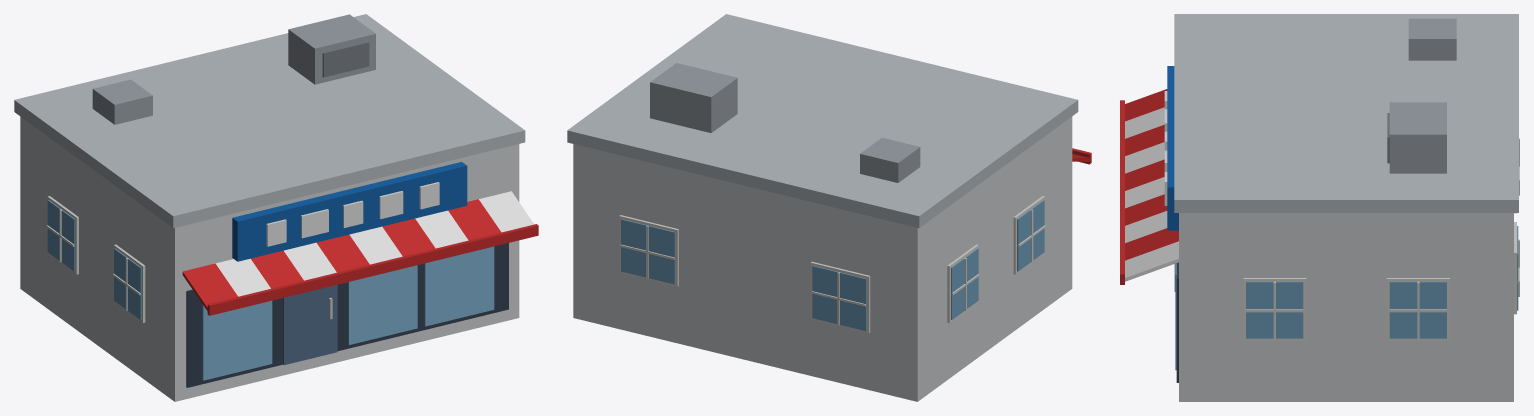
File: shop.glb
3 views of the same model, side by side, from view 1: azimuth 30°, elevation 25°; view 2: azimuth 150°, elevation 25°; view 3: azimuth 270°, elevation 25° (orthographic). The views are drawn at different scales.
Parts seen in each view (by area): view 1: gh_shop; view 2: gh_shop; view 3: gh_shop.
Boxes of the visible parts, x1=… form: gh_shop: x1=14, y1=14, x2=538, y2=401; gh_shop: x1=567, y1=14, x2=1091, y2=401; gh_shop: x1=1120, y1=14, x2=1519, y2=401.
Bounding box in the file's own units: 9.24 × 5.6 × 8.35.
